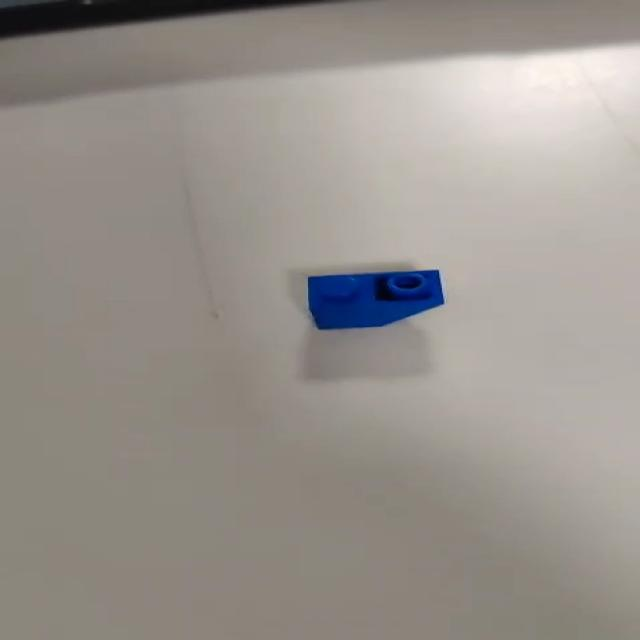X1x2x1: (304, 269, 452, 332)
